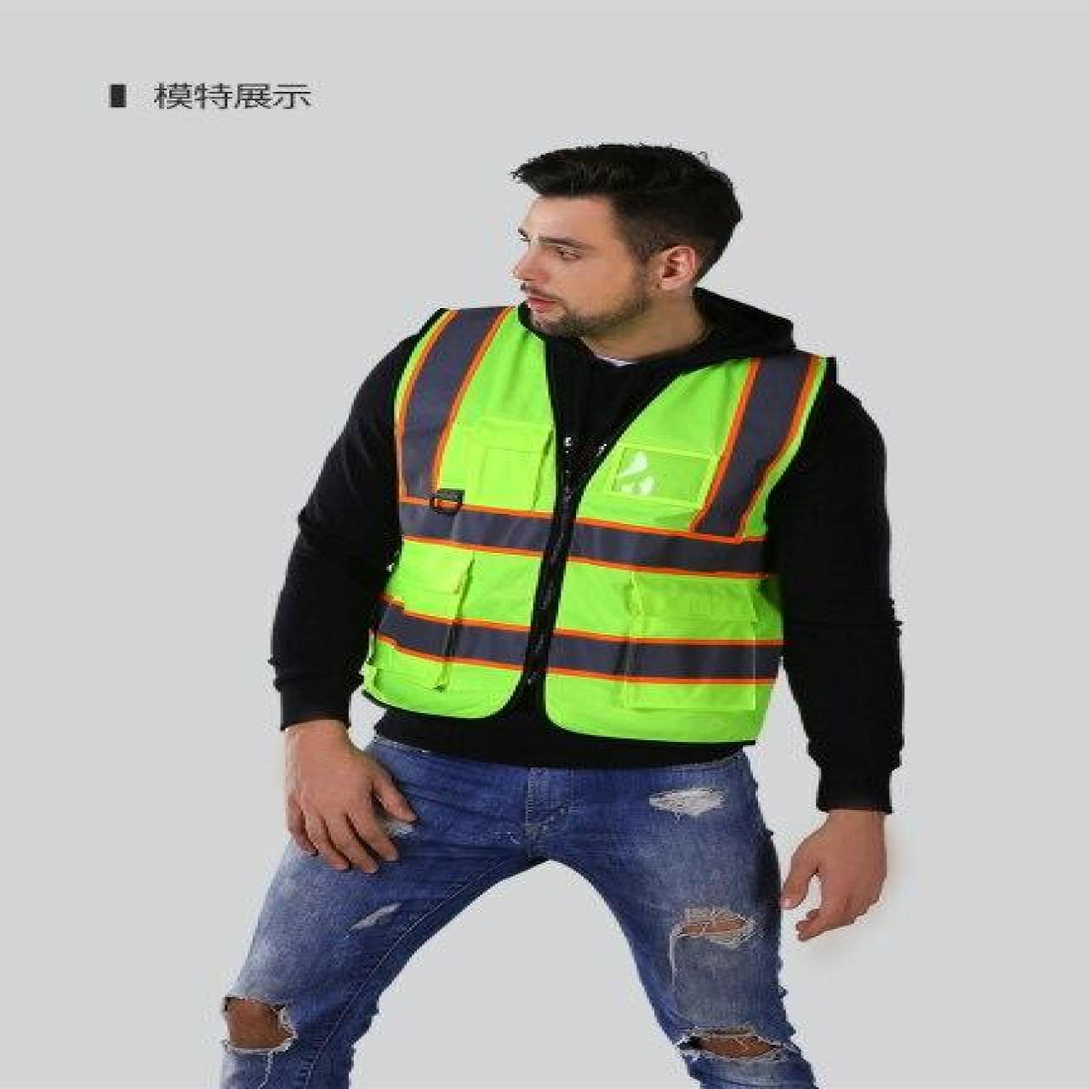Person: (157, 89, 944, 1087)
Safety_Vest: (366, 293, 808, 769)
